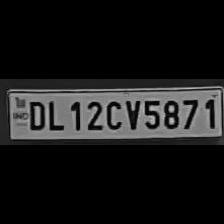1: (199, 95, 219, 129), (64, 97, 82, 131)
2: (82, 97, 104, 131)
5: (140, 96, 162, 130)
7: (179, 96, 199, 130)
8: (160, 96, 180, 130)
C: (103, 97, 123, 130)
D: (24, 97, 46, 130)
L: (44, 97, 64, 131)
V: (122, 96, 140, 130)
